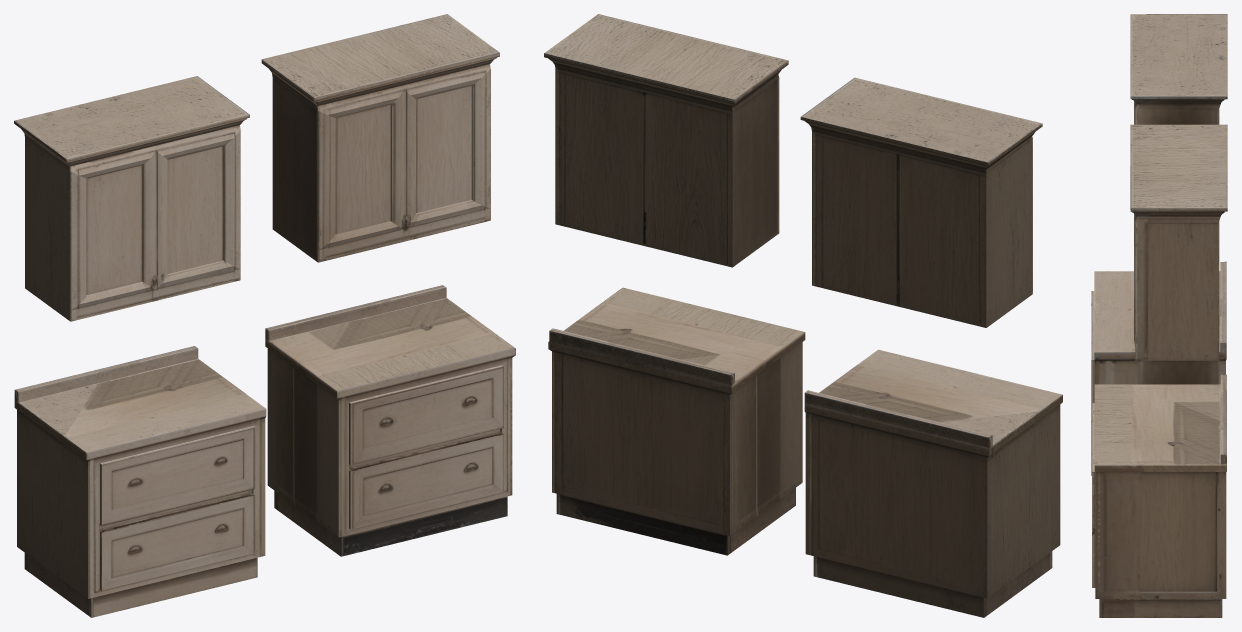
File: KitchenCabinets.fbx
The picture shows the model from 3 angles, left to right: view 1: azimuth 30°, elevation 25°; view 2: azimuth 150°, elevation 25°; view 3: azimuth 270°, elevation 25°; orthographic projection. The views are drawn at different scales.
Parts seen in each view (by area): view 1: KitchenCabinets_Low; view 2: KitchenCabinets_Low; view 3: KitchenCabinets_Low.
Boxes of the visible parts, left/top/right/bottom form: KitchenCabinets_Low: left=14, top=14, right=515, bottom=617; KitchenCabinets_Low: left=544, top=14, right=1062, bottom=617; KitchenCabinets_Low: left=1091, top=14, right=1227, bottom=617.
Bounding box in the file's own units: 2.32 × 2.3 × 0.6853.
